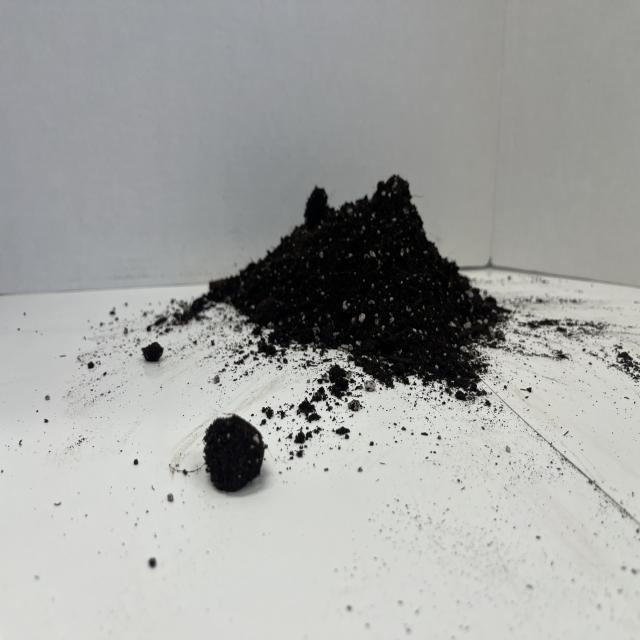soil: (201, 171, 510, 396)
